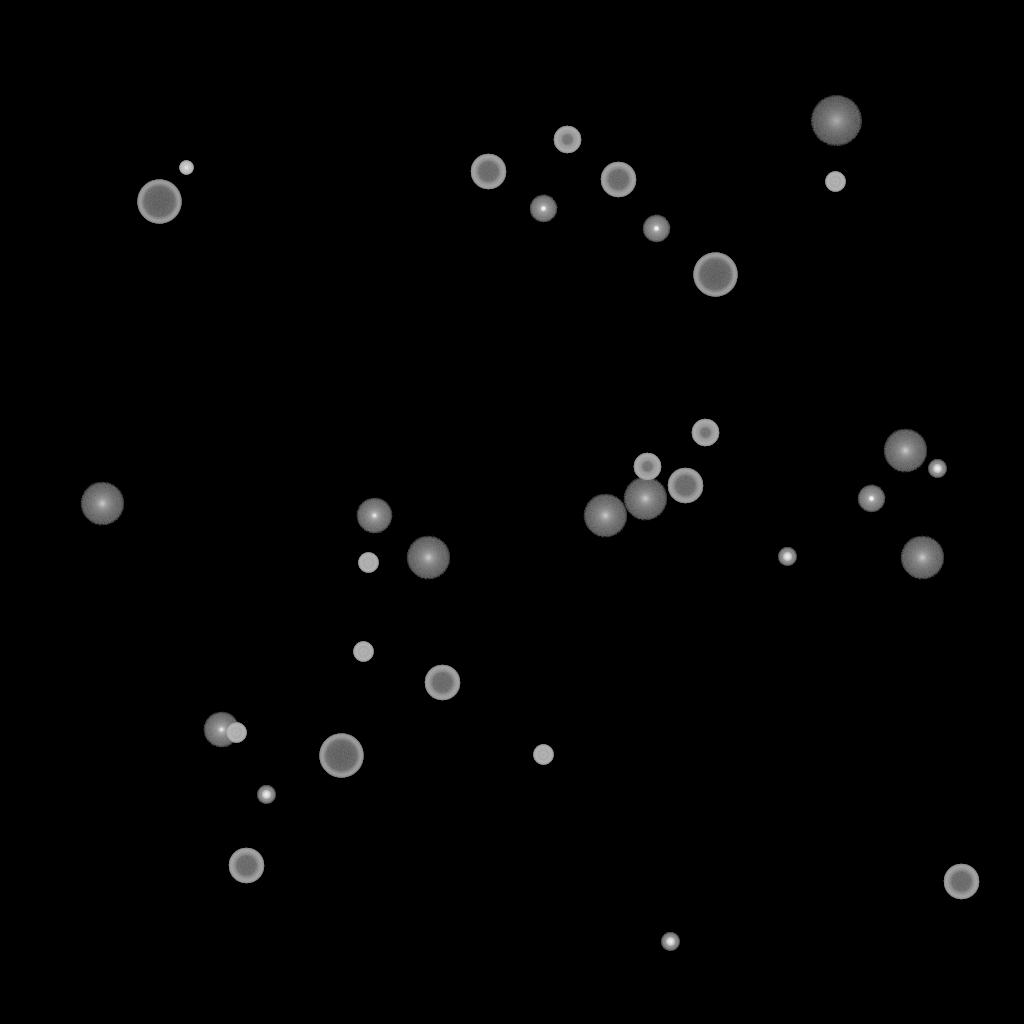depth:-10: (529, 195, 557, 223), (642, 215, 670, 243), (857, 485, 885, 513)
depth:-20: (661, 933, 679, 951), (928, 460, 946, 478), (257, 786, 275, 804), (778, 548, 796, 566)
depth:-30: (179, 161, 193, 175)
depth:-40: (226, 723, 246, 743), (358, 553, 378, 573), (353, 642, 373, 662), (533, 745, 553, 765), (825, 172, 845, 192)
depth:-50: (553, 126, 581, 154), (633, 453, 661, 481), (691, 419, 719, 447)
depth:-60: (424, 665, 460, 701), (228, 848, 264, 884), (470, 154, 506, 190), (667, 468, 703, 504), (600, 162, 636, 198), (943, 864, 979, 900)
depth:-70: (137, 180, 181, 224), (693, 253, 737, 297), (319, 734, 363, 778)
depth:0: (356, 498, 392, 534), (203, 712, 239, 748)
depth:10: (80, 482, 124, 526), (900, 536, 944, 580), (623, 477, 667, 521), (406, 536, 450, 580), (583, 494, 627, 538), (883, 429, 927, 473)
depth:20: (810, 96, 862, 146)
